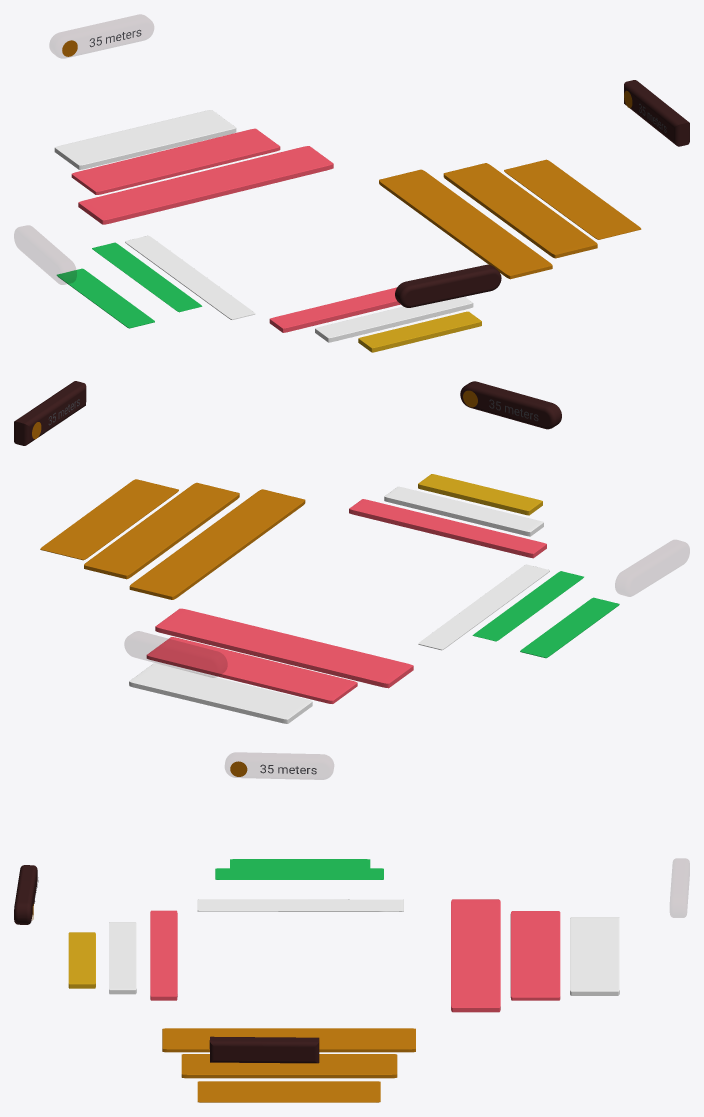
File: jump_domi8.gltf
3 views of the same model, one above another, from view 1: azimuth 30°, elevation 25°; view 2: azimuth 150°, elevation 25°; view 3: azimuth 270°, elevation 25° (orthographic). The views are drawn at different scales.
Parts seen in each view (by area): view 1: Cube top (×2), Cube right (×2), Rectangle (×4), Cube top center, Cube bottom (×3), Cube left (×3), Cube right center; view 2: Cube top (×2), Cube right (×2), Rectangle (×4), Cube bottom (×3), Cube top center, Cube left (×3), Cube right center; view 3: Cube top (×2), Cube right (×2), Rectangle (×4), Cube bottom (×3), Cube left (×3), Cube top center, Cube right center.
Part boxes in pixels (x1,y1,x2,y2): Cube top (×2): (54, 110, 280, 194); Cube right (×2): (443, 159, 641, 258); Rectangle (×4): (14, 15, 689, 307); Cube top center: (78, 146, 333, 224); Cube bottom (×3): (269, 287, 481, 352); Cube left (×3): (56, 235, 255, 328); Cube right center: (379, 169, 552, 279); Cube top (×2): (129, 637, 357, 723); Cube right (×2): (40, 479, 239, 579); Rectangle (×4): (14, 381, 689, 677); Cube bottom (×3): (349, 474, 546, 558); Cube top center: (155, 608, 413, 688); Cube left (×3): (418, 564, 619, 658); Cube right center: (129, 489, 305, 599); Cube top (×2): (510, 911, 619, 1000); Cube right (×2): (181, 1054, 397, 1102); Rectangle (×4): (14, 753, 689, 1063); Cube bottom (×3): (68, 910, 177, 1000); Cube left (×3): (197, 859, 403, 911); Cube top center: (451, 899, 500, 1012); Cube right center: (162, 1028, 415, 1052).
Size of the model in its own units: 16.78 by 2.36 by 16.33.
